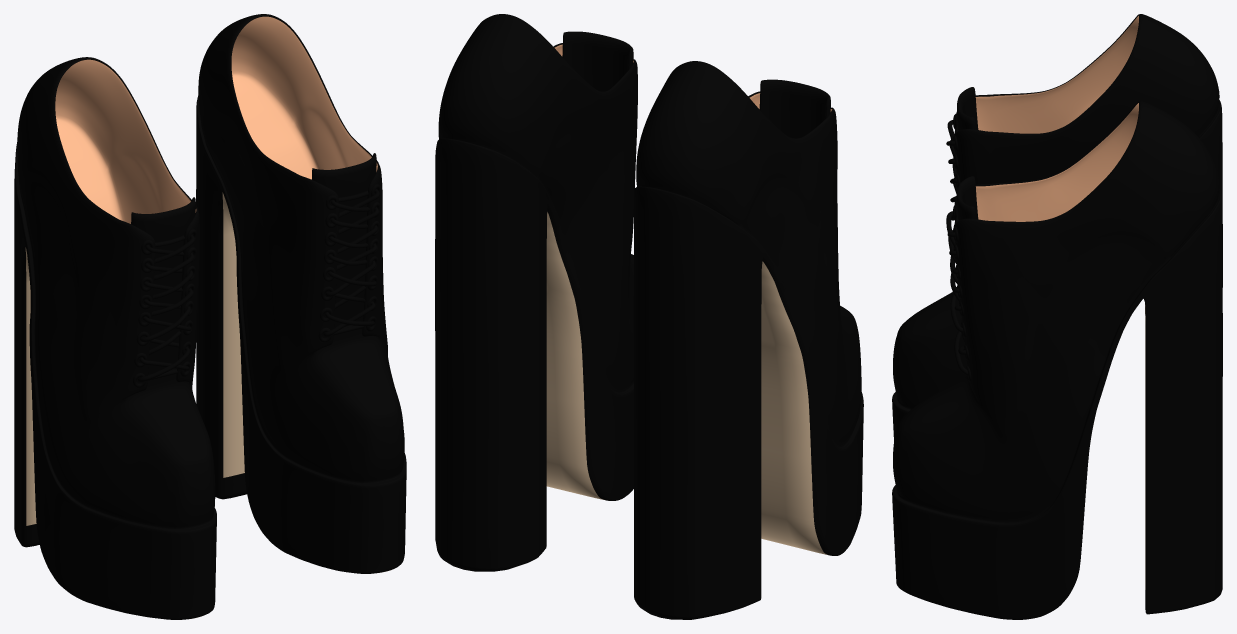
Rendered from stella_chunky_high_heel_platform_shoes.glb.
3 views of the same model, side by side, from view 1: azimuth 30°, elevation 25°; view 2: azimuth 150°, elevation 25°; view 3: azimuth 270°, elevation 25° (orthographic). The views are drawn at different scales.
Parts seen in each view (by area): view 1: Object_6, Object_7, Object_8, Object_2, Object_4, Object_3, Object_5; view 2: Object_6, Object_7, Object_2, Object_8; view 3: Object_6, Object_7, Object_8, Object_2, Object_4, Object_3.
Part boxes in pixels (x1=…): Object_6: x1=14, y1=16, x2=406, y2=619; Object_7: x1=14, y1=14, x2=404, y2=547; Object_8: x1=199, y1=15, x2=400, y2=479; Object_2: x1=131, y1=153, x2=376, y2=374; Object_4: x1=137, y1=189, x2=379, y2=382; Object_3: x1=133, y1=184, x2=380, y2=387; Object_5: x1=144, y1=195, x2=374, y2=330; Object_6: x1=435, y1=21, x2=863, y2=596; Object_7: x1=440, y1=14, x2=854, y2=619; Object_2: x1=562, y1=31, x2=830, y2=138; Object_8: x1=440, y1=22, x2=633, y2=390; Object_6: x1=892, y1=14, x2=1222, y2=619; Object_7: x1=893, y1=16, x2=1219, y2=523; Object_8: x1=895, y1=103, x2=1214, y2=511; Object_2: x1=957, y1=87, x2=978, y2=220; Object_4: x1=946, y1=120, x2=967, y2=375; Object_3: x1=953, y1=114, x2=971, y2=381.
Bounding box in the file's own units: 0.2554 × 0.3529 × 0.2184.
1 material, 1 textured.
